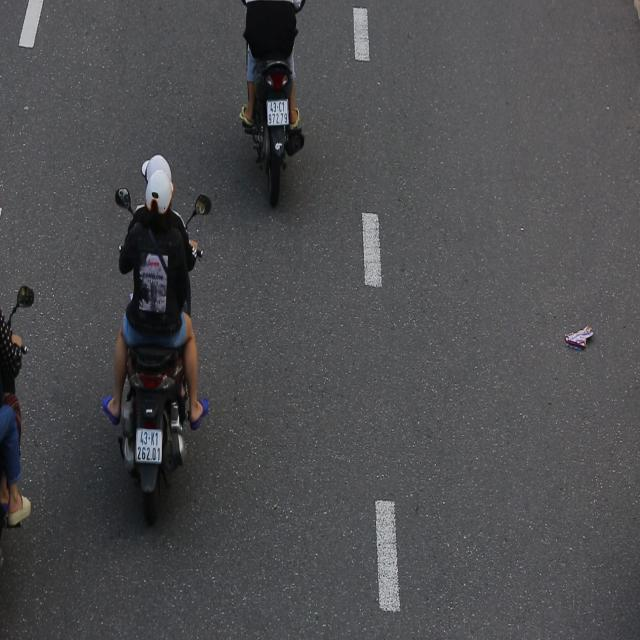motorbike: (106, 147, 211, 530)
